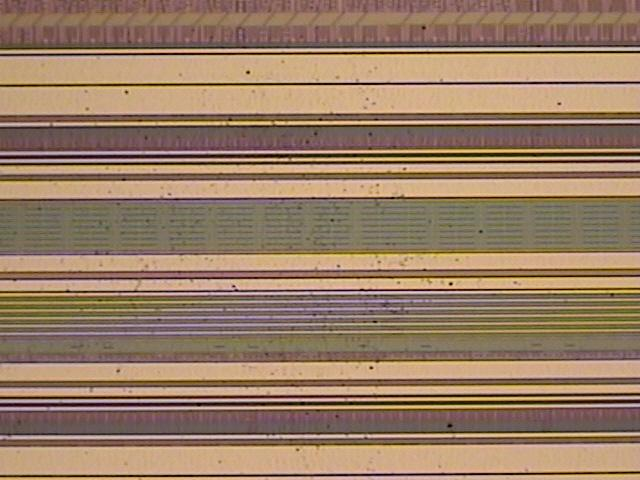PO CONTAMINATION: (5, 21, 623, 480)
